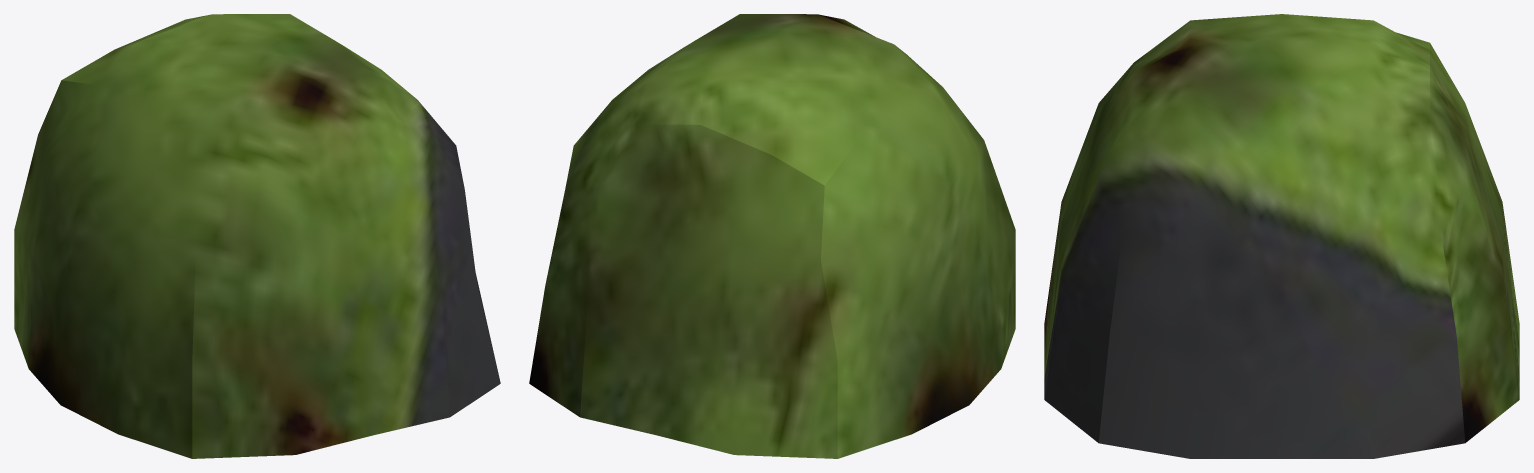
The model's file is stijena_3.glb.
3 views of the same model, side by side, from view 1: azimuth 30°, elevation 25°; view 2: azimuth 150°, elevation 25°; view 3: azimuth 270°, elevation 25° (orthographic). The views are drawn at different scales.
Visible parts, largest first — view 1: Rock_3_1_Rocks:aiStandardSurface4_0; view 2: Rock_3_1_Rocks:aiStandardSurface4_0; view 3: Rock_3_1_Rocks:aiStandardSurface4_0.
Boxes of the visible parts, x1=… form: Rock_3_1_Rocks:aiStandardSurface4_0: x1=14, y1=14, x2=500, y2=458; Rock_3_1_Rocks:aiStandardSurface4_0: x1=529, y1=14, x2=1015, y2=458; Rock_3_1_Rocks:aiStandardSurface4_0: x1=1044, y1=14, x2=1519, y2=458.
Bounding box in the file's own units: 1.24 × 0.9816 × 1.3.
1 material, 1 textured.
